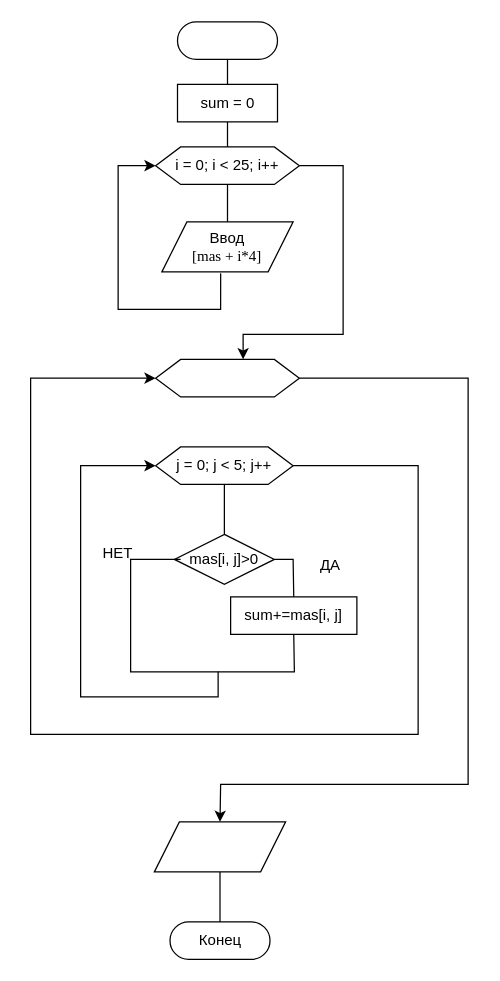
This 500x981 diagram has some shape labels left out. The shapes that lost their labels are listed below. From the top down, each one's centre as x and y in pixels, then its label:
At point 227,40: "Начало".
At point 226,377: "i = 0; i < 5; i++".
At point 219,846: "Вывод sum".
